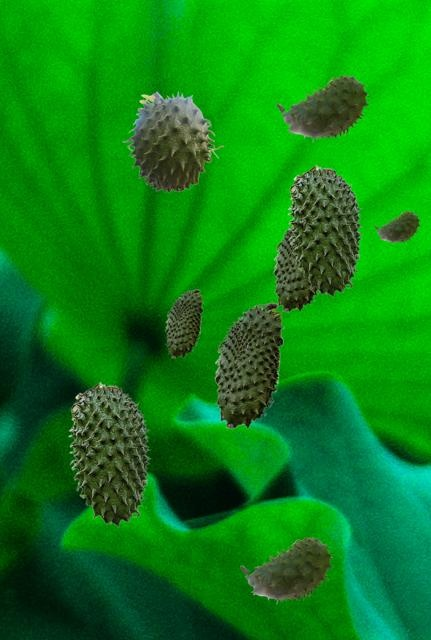guyabano: (68, 381, 150, 526), (122, 90, 223, 192), (287, 164, 362, 296), (214, 302, 283, 428), (276, 75, 368, 141), (240, 537, 332, 603), (273, 226, 319, 311), (165, 289, 202, 357), (374, 211, 419, 243)
